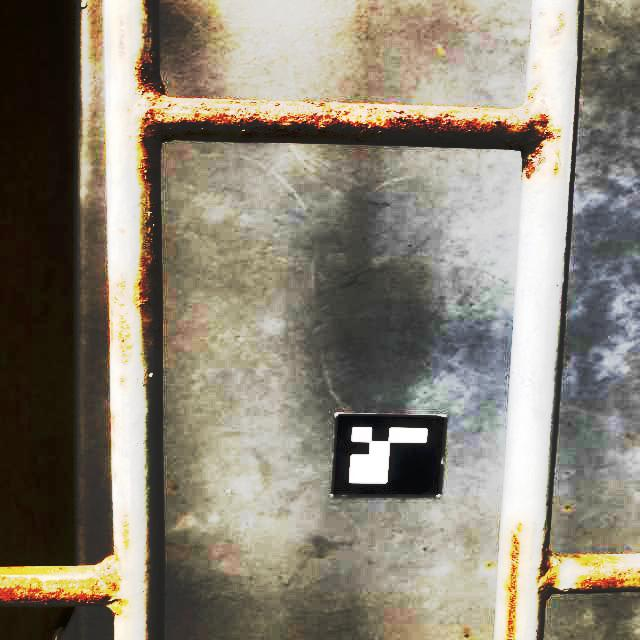Corrosion: (109, 49, 564, 391), (0, 501, 132, 620), (499, 519, 528, 640), (570, 553, 640, 593), (542, 9, 572, 49), (537, 556, 562, 592), (115, 14, 128, 63), (111, 406, 119, 459), (139, 0, 154, 23), (112, 465, 118, 484), (531, 59, 541, 70), (118, 228, 126, 234), (538, 10, 547, 15)
